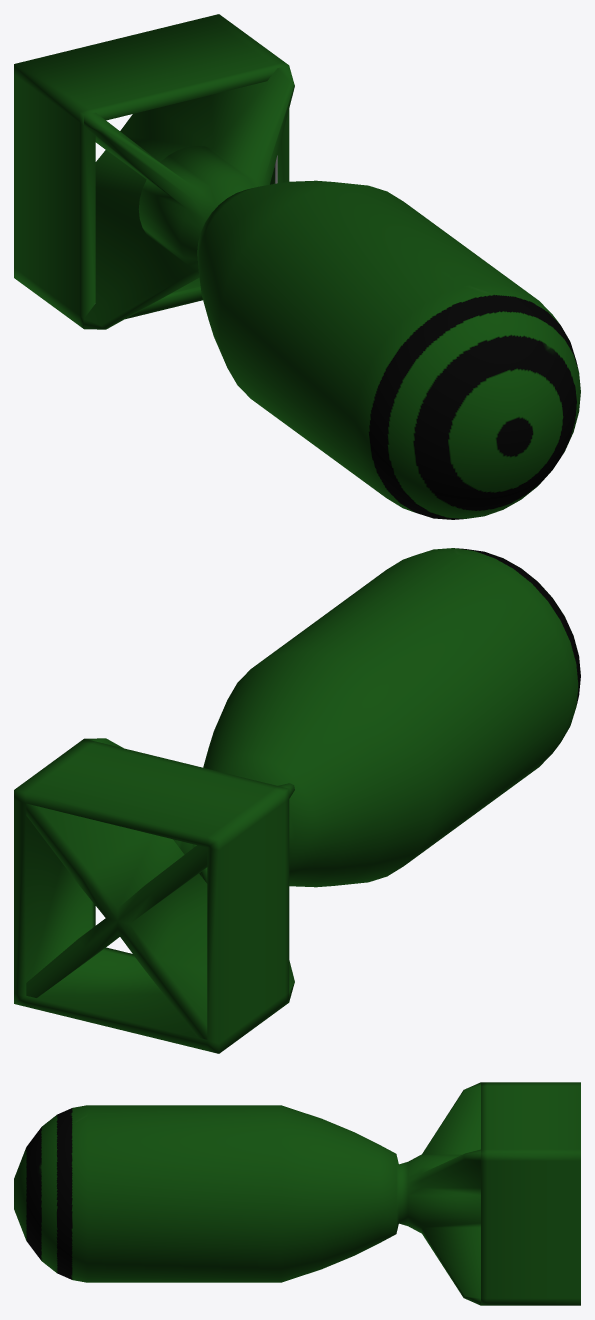
File: Nuke-Bomb.fbx
3 renders of one model, top to bottom at view 1: azimuth 30°, elevation 25°; view 2: azimuth 150°, elevation 25°; view 3: azimuth 270°, elevation 25°, orthographic. The views are drawn at different scales.
Visible parts, largest first — view 1: Cylinder; view 2: Cylinder; view 3: Cylinder.
Part boxes in pixels (<box>): Cylinder: <box>14,14,580,519</box>; Cylinder: <box>14,548,580,1053</box>; Cylinder: <box>14,1082,580,1305</box>.
Bounding box in the file's own units: 0.4332 × 0.4332 × 1.38.
Materials: 1 (1 with a texture image).
